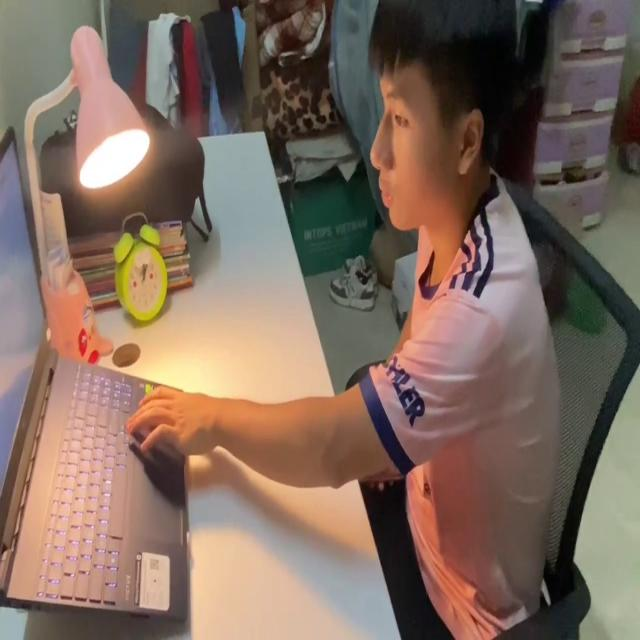laptop: (0, 118, 191, 629)
student: (122, 0, 556, 640)
